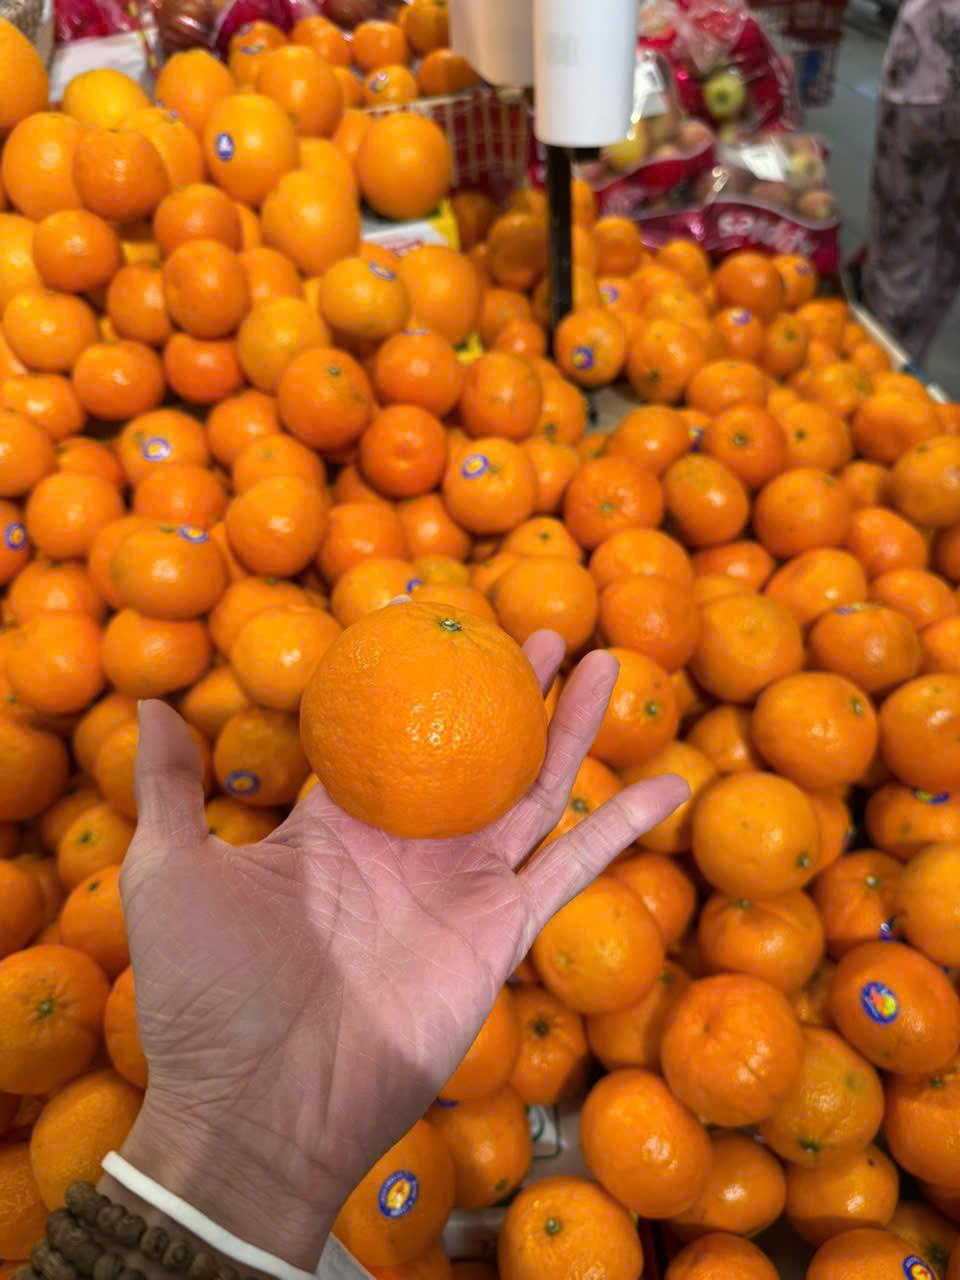orange: (300, 600, 556, 838), (657, 976, 806, 1124), (680, 755, 828, 898), (830, 943, 960, 1078), (505, 1176, 645, 1280), (755, 666, 877, 784), (2, 948, 99, 1094), (608, 563, 719, 680), (815, 596, 919, 698), (120, 526, 227, 620), (362, 390, 443, 508), (165, 246, 247, 362), (210, 491, 331, 568), (275, 350, 369, 446), (373, 328, 467, 420), (445, 443, 541, 532), (890, 676, 960, 794), (715, 406, 795, 488), (753, 475, 847, 542)
